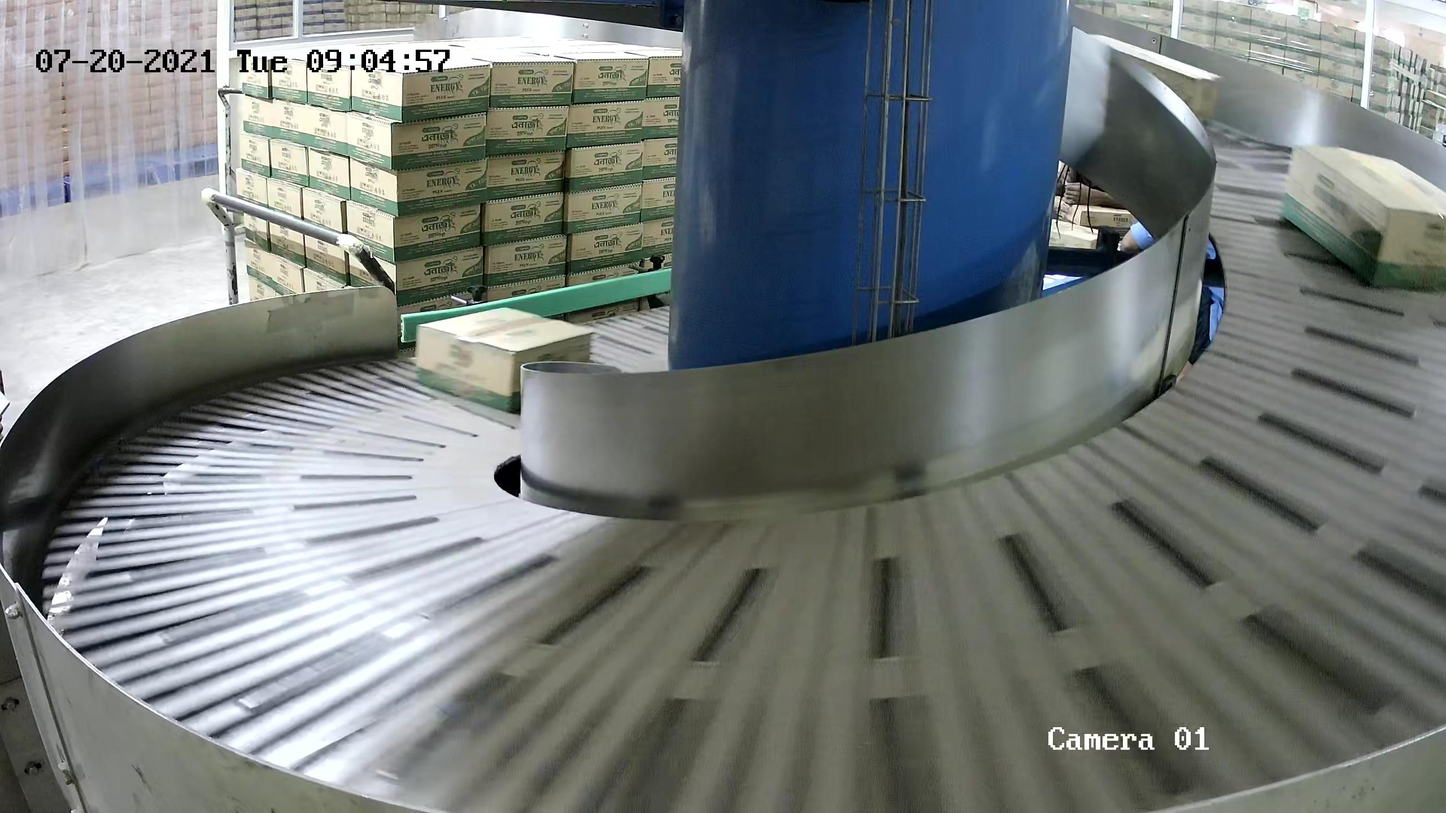Box: (1280, 141, 1446, 292), (413, 303, 598, 415)
